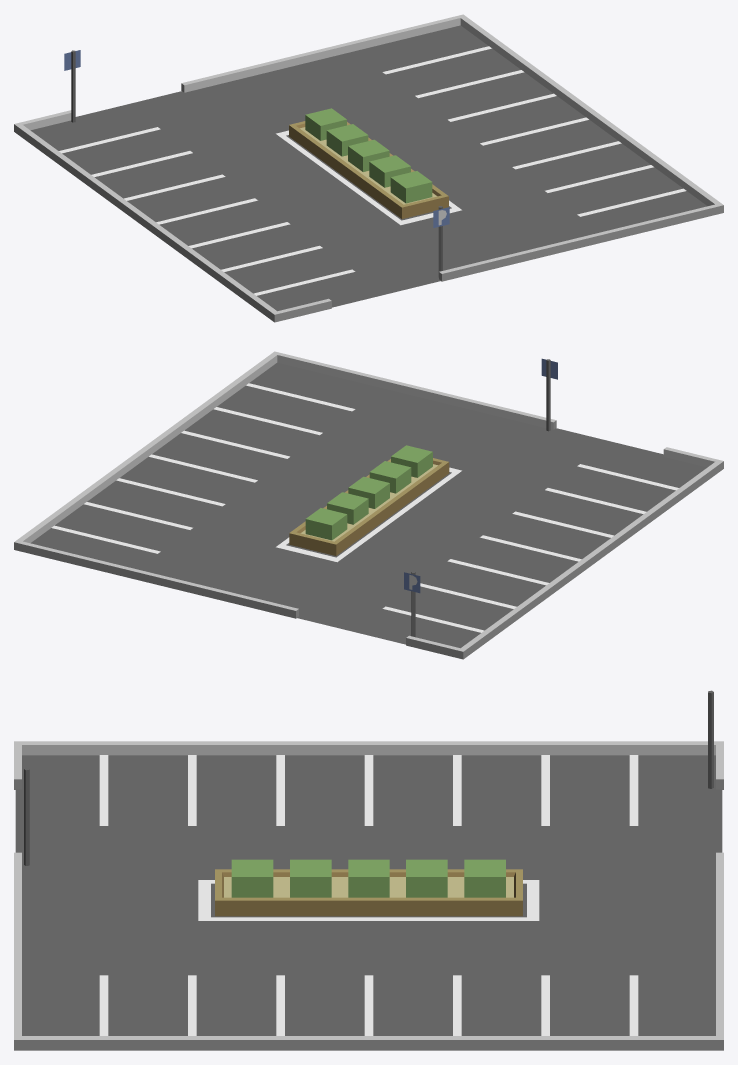
Rendered from parking_tile_2x2_002.glb.
3 renders of one model, top to bottom at view 1: azimuth 30°, elevation 25°; view 2: azimuth 150°, elevation 25°; view 3: azimuth 270°, elevation 25°, orthographic. The views are drawn at different scales.
Visible parts, largest first — view 1: parking_tile_2x2_002; view 2: parking_tile_2x2_002; view 3: parking_tile_2x2_002.
Part boxes in pixels (x1,y1,x2,y2): parking_tile_2x2_002: (14, 14, 723, 322); parking_tile_2x2_002: (14, 351, 723, 659); parking_tile_2x2_002: (14, 690, 723, 1050).
Bounding box in the file's own units: 16 × 2.47 × 16.07.
Materials: 1 (1 with a texture image).
